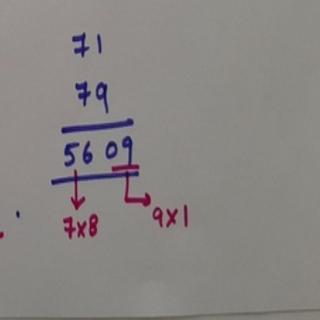.: (12, 206, 23, 221)
0: (105, 139, 120, 161)
1: (95, 31, 105, 53), (184, 203, 190, 227)
5: (64, 142, 80, 166)
6: (83, 141, 95, 166)
7: (71, 30, 89, 60), (62, 217, 78, 241), (75, 81, 90, 106)
8: (87, 212, 101, 238)
9: (95, 82, 110, 114), (123, 135, 134, 165), (152, 205, 164, 230)
